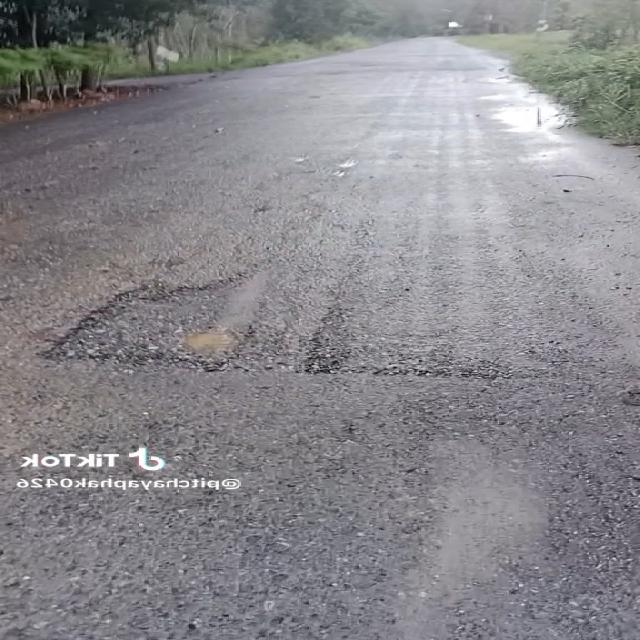Poth-hole: (0, 219, 548, 460)
